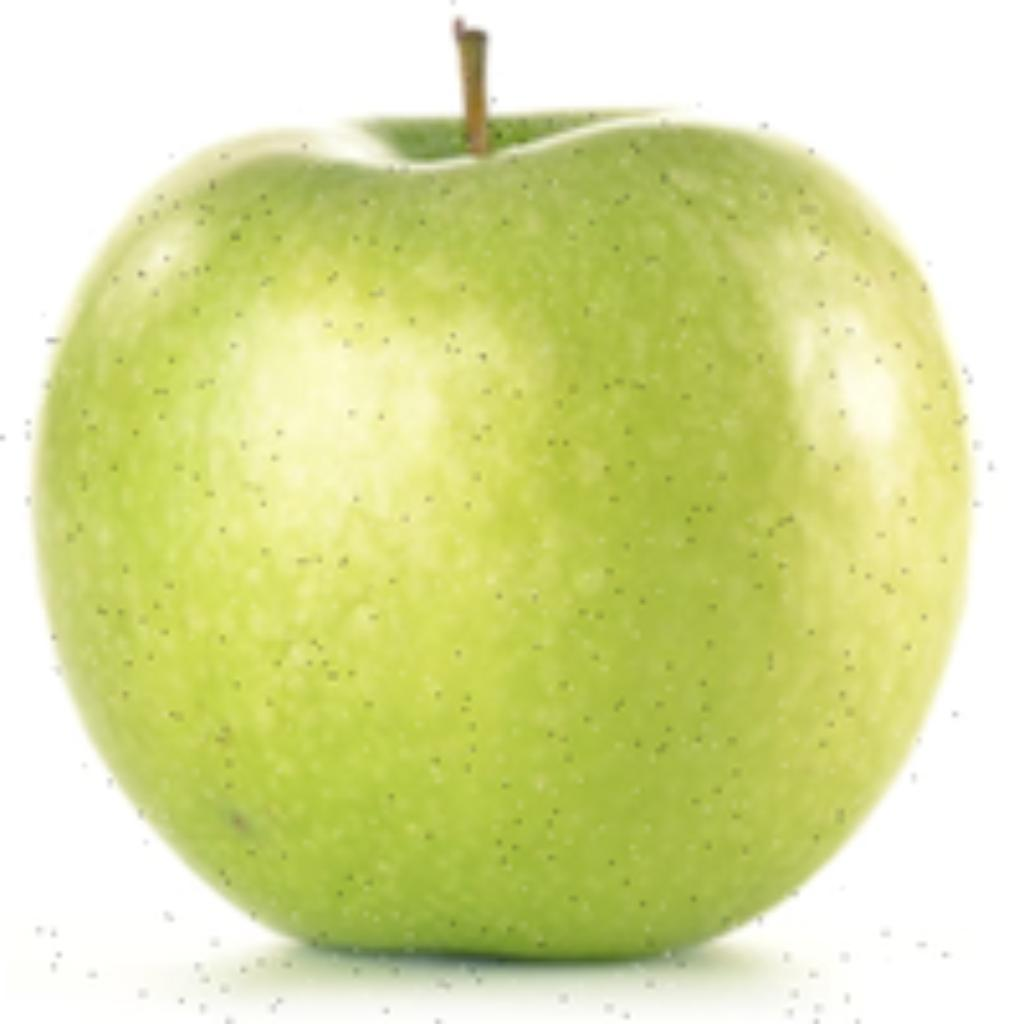apple: (20, 0, 998, 1019)
